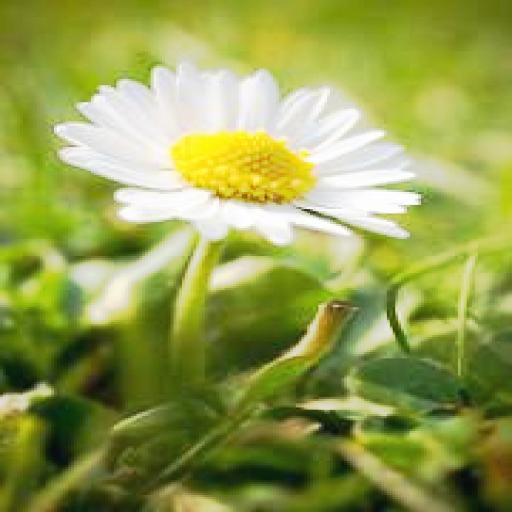daisy: (60, 64, 421, 279)
